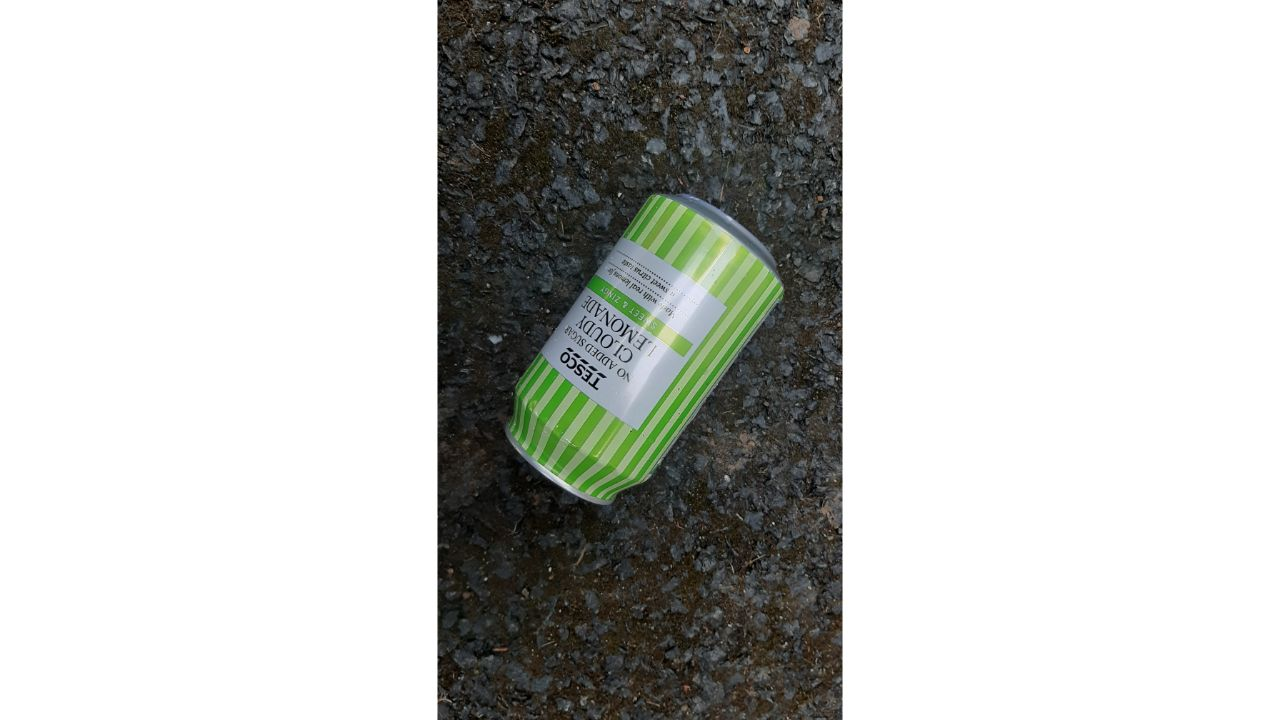Can: (490, 173, 794, 523)
